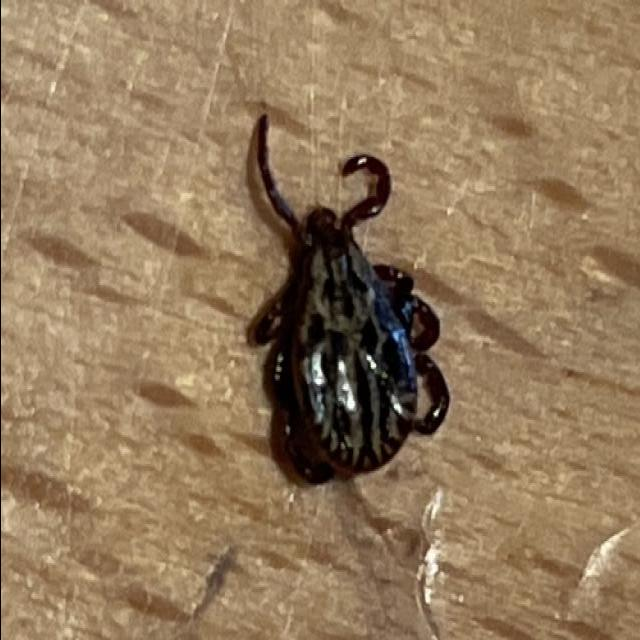Dermacentor Reticulatus-M: (243, 116, 448, 486)
